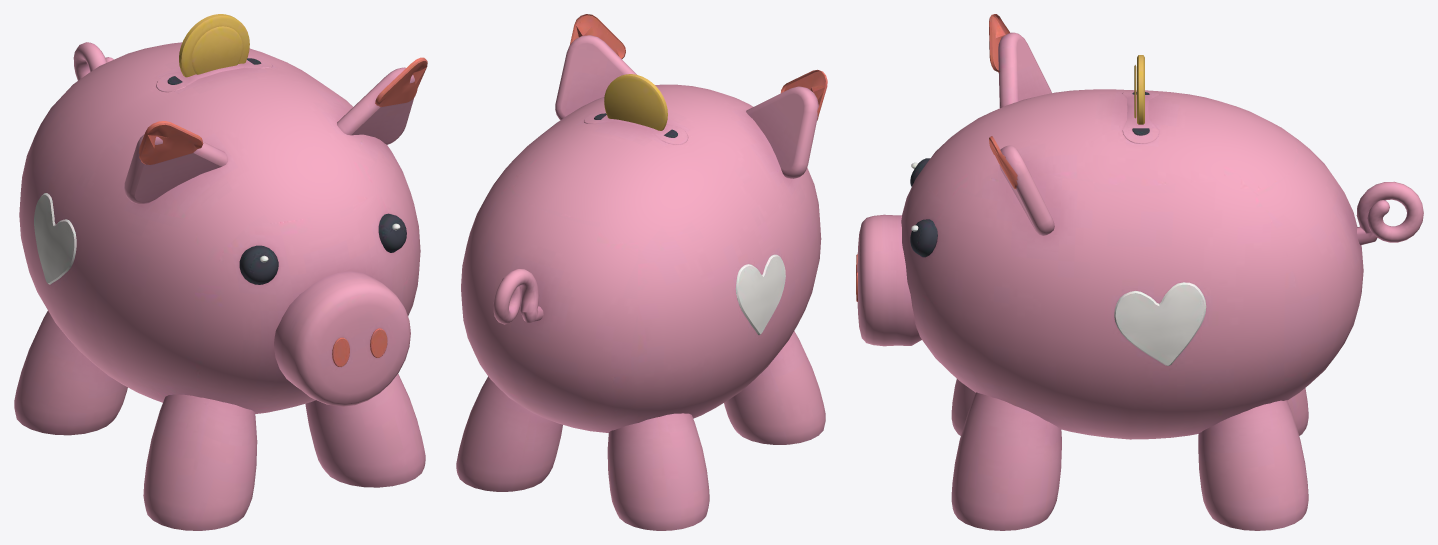
File: hucha.glb
The picture shows the model from 3 angles, left to right: view 1: azimuth 30°, elevation 25°; view 2: azimuth 150°, elevation 25°; view 3: azimuth 270°, elevation 25°; orthographic projection. The views are drawn at different scales.
Parts seen in each view (by area): view 1: piggy-bank_body; view 2: piggy-bank_body; view 3: piggy-bank_body.
Part boxes in pixels (x1,y1,x2,y2): piggy-bank_body: (14,14,427,530); piggy-bank_body: (456,14,827,530); piggy-bank_body: (856,14,1423,530).
Bounding box in the file's own units: 0.129 × 0.1674 × 0.2091.
1 material, 1 textured.
